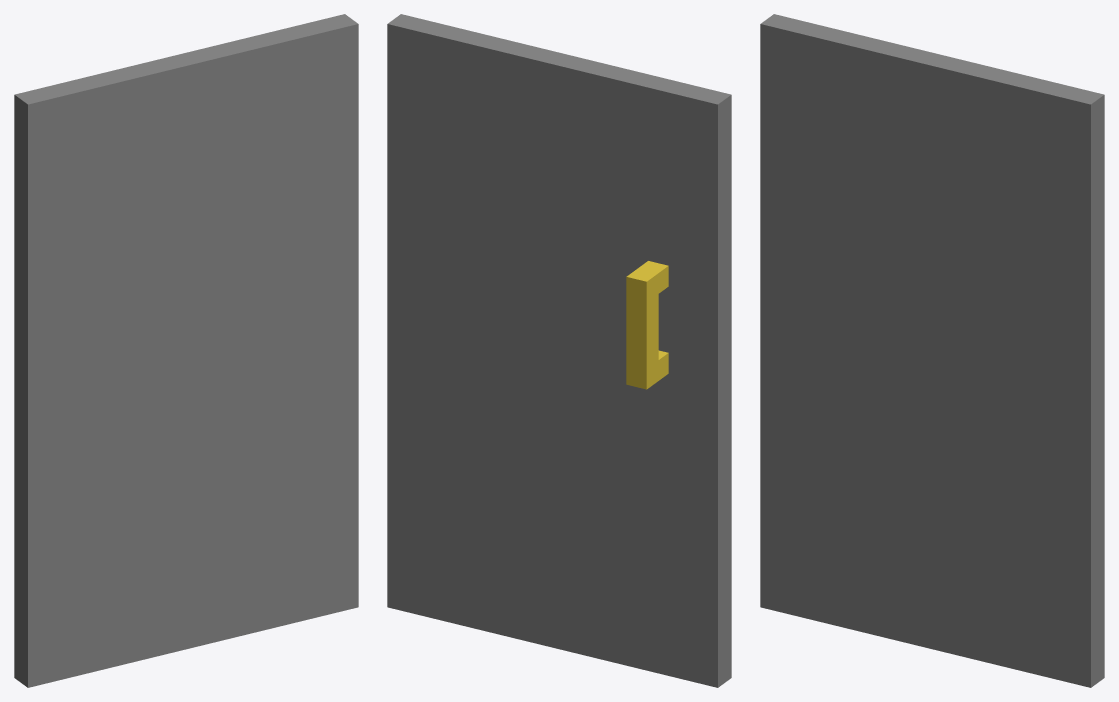
The model's file is BirdSeedsBoxDoor.fbx.
3 views of the same model, side by side, from view 1: azimuth 30°, elevation 25°; view 2: azimuth 150°, elevation 25°; view 3: azimuth 330°, elevation 25° (orthographic).
Parts seen in each view (by area): view 1: Cube.224; view 2: Cube.224; view 3: Cube.224.
Boxes of the visible parts, left/top/right/bottom form: Cube.224: left=14, top=14, right=358, bottom=687; Cube.224: left=387, top=14, right=731, bottom=687; Cube.224: left=760, top=14, right=1104, bottom=687.
Size of the model in its own units: 92.09 by 155 by 17.13.
